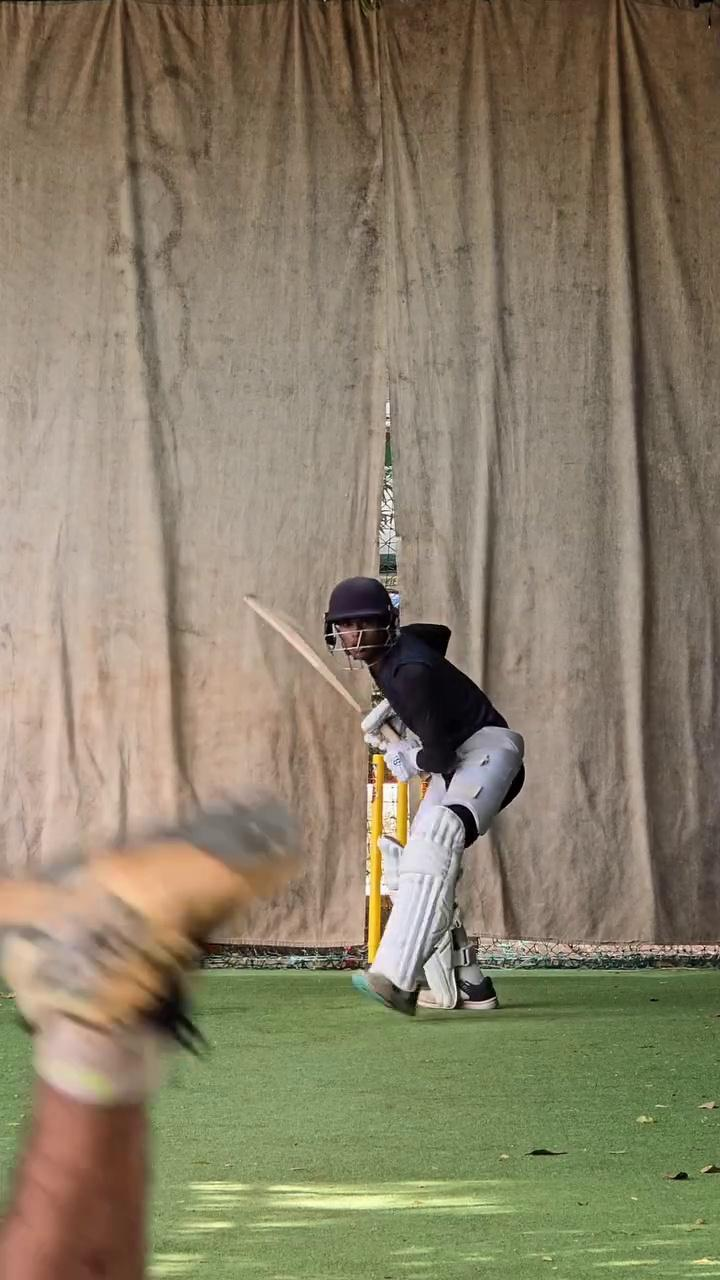bat: (242, 577, 383, 720)
